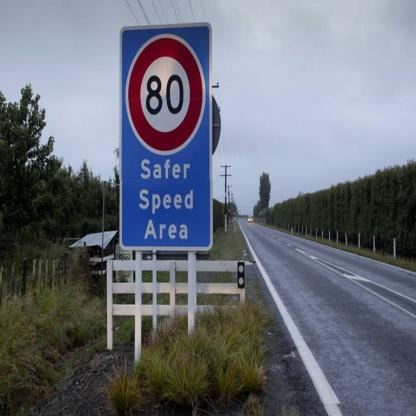Speed Limit 80: (127, 34, 205, 152)
